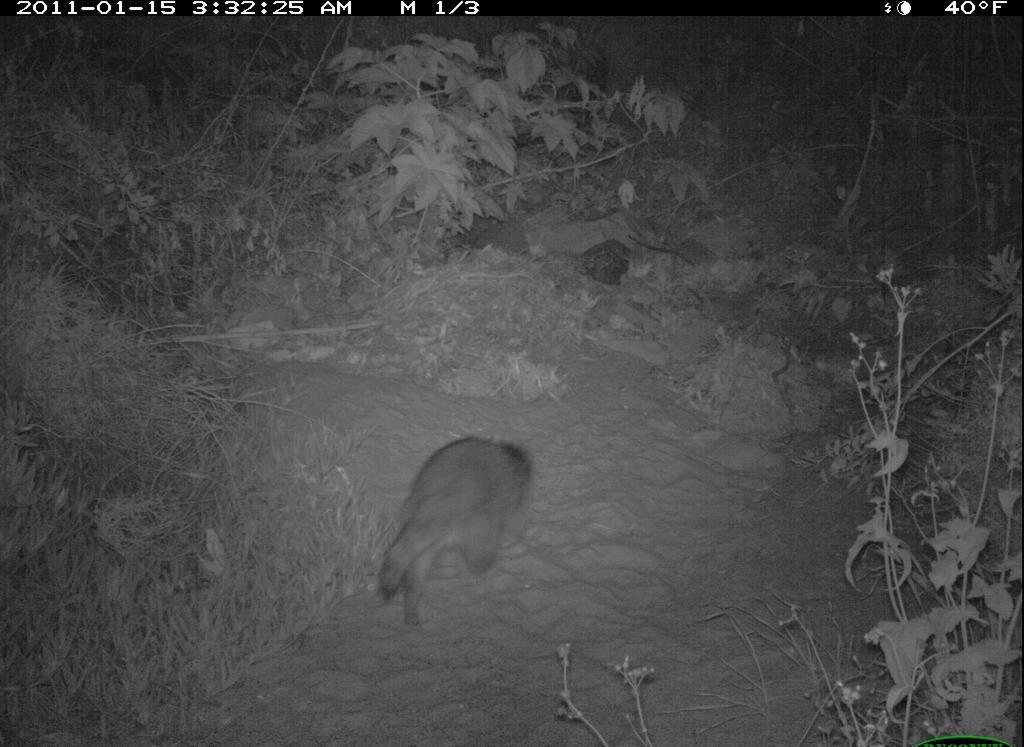raccoon: (377, 437, 542, 638)
